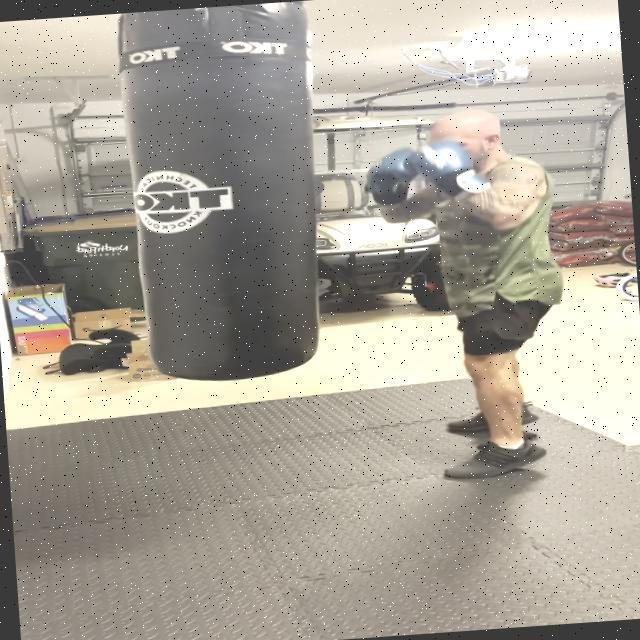bag: (98, 0, 339, 392)
no punch: (358, 98, 543, 243)
